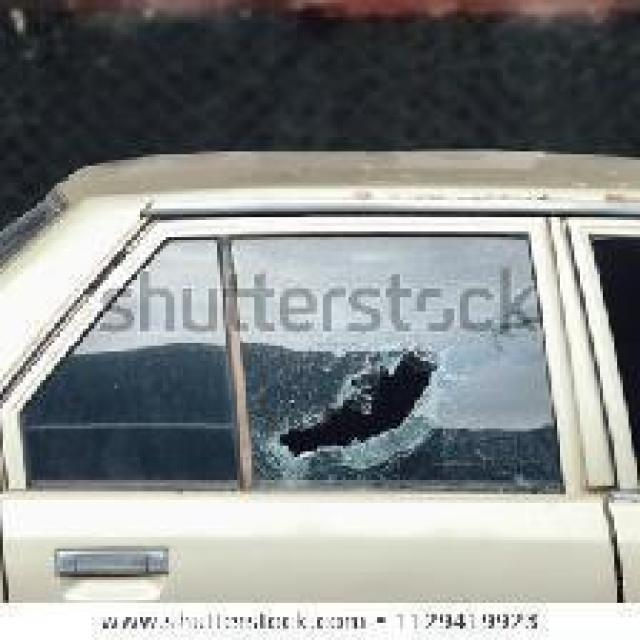damaged: (248, 343, 483, 483)
